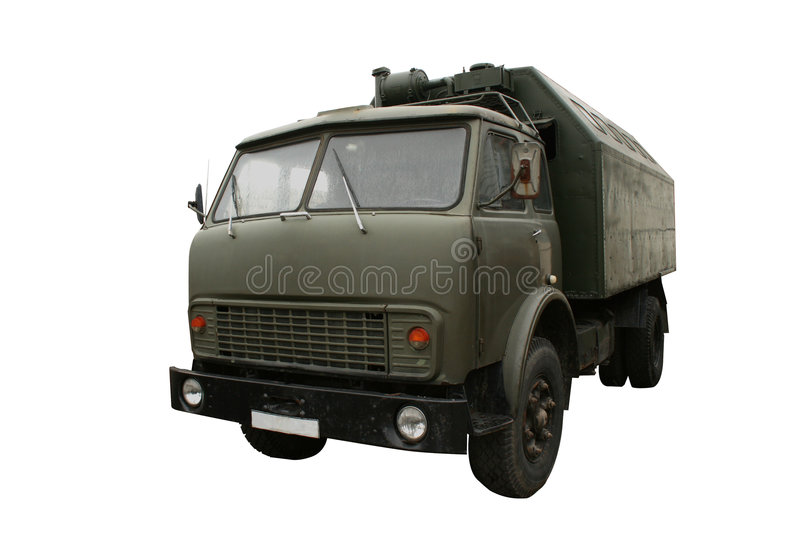camion: (167, 71, 682, 495)
